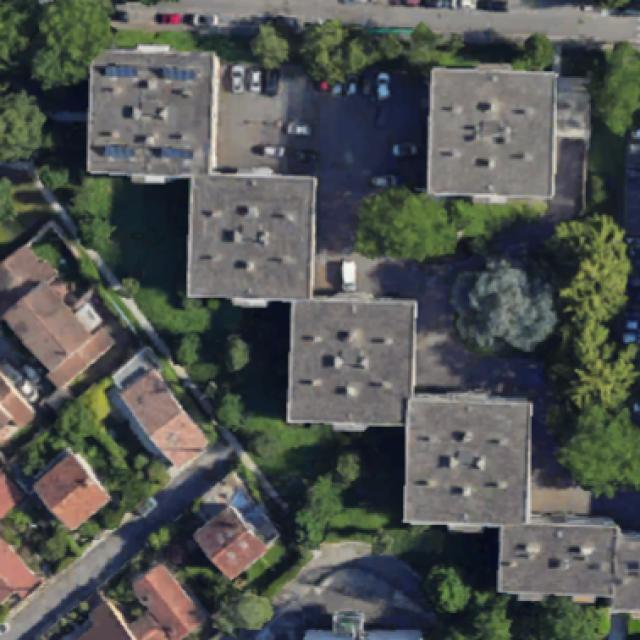immeuble: (85, 41, 221, 190), (287, 293, 415, 430), (405, 394, 527, 534), (427, 63, 554, 196), (188, 178, 315, 303), (499, 522, 618, 598), (615, 533, 638, 615)
maison: (0, 270, 115, 388), (115, 368, 211, 471), (28, 444, 113, 529), (127, 561, 207, 640), (191, 504, 266, 580)
